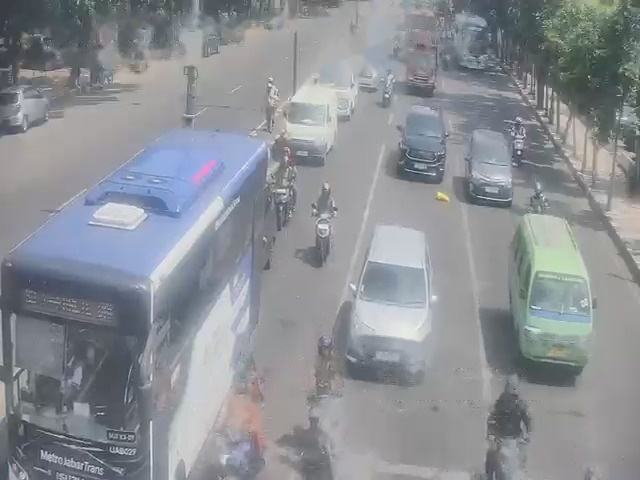Bis: (6, 96, 258, 480), (453, 11, 489, 69)
Mobil: (345, 225, 437, 380), (519, 206, 600, 354), (398, 95, 450, 177), (283, 84, 336, 164), (464, 129, 511, 206), (406, 57, 437, 92)
Motor: (301, 393, 340, 479), (485, 420, 523, 479), (216, 435, 264, 479), (274, 186, 293, 230), (316, 213, 329, 262), (381, 70, 394, 107), (512, 134, 524, 166), (528, 195, 548, 213), (265, 105, 275, 132), (392, 41, 400, 59), (300, 4, 309, 17), (349, 20, 357, 33)
